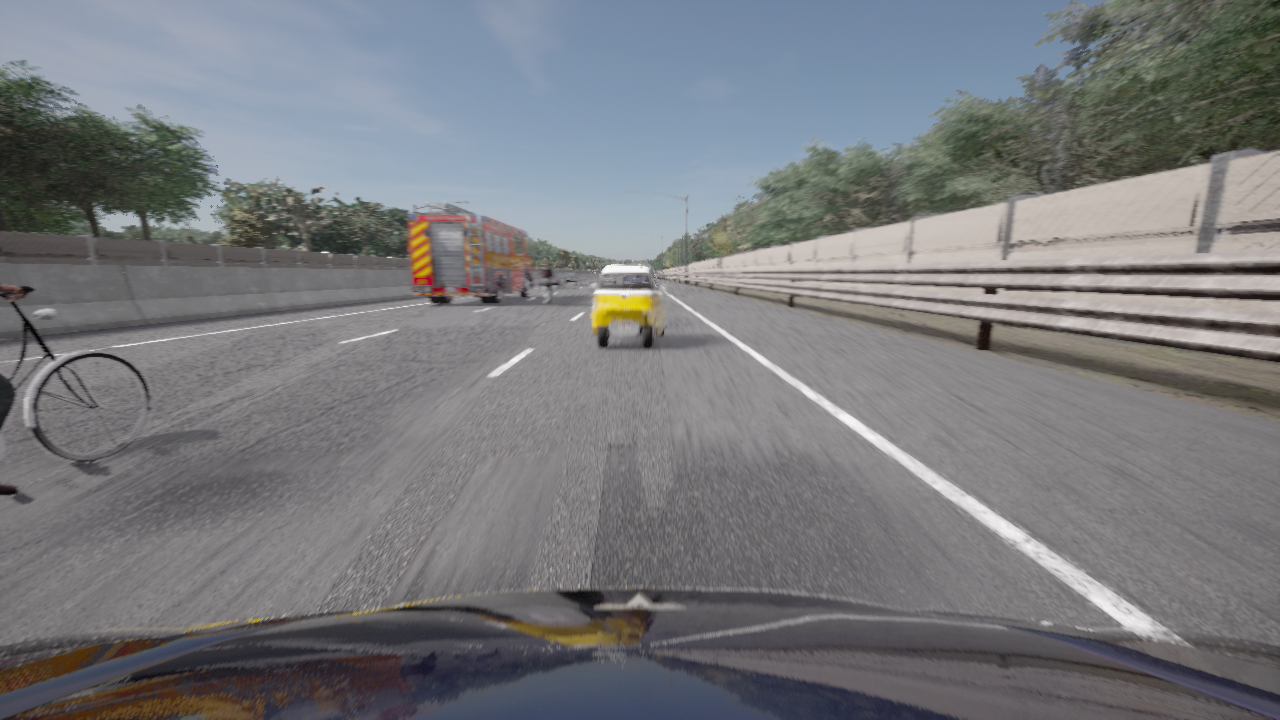cyclist: (0, 588, 1279, 719), (0, 287, 150, 461), (409, 201, 535, 303), (590, 264, 667, 348), (539, 270, 565, 288), (542, 286, 550, 303)
